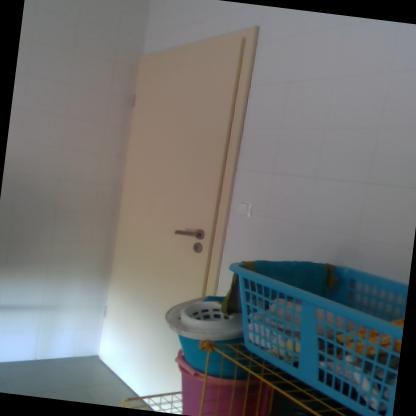closed: (93, 6, 263, 372)
